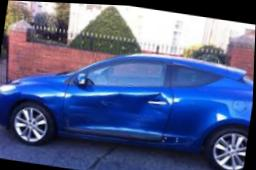Door: (61, 62, 173, 139)
Fender: (161, 80, 237, 149)
